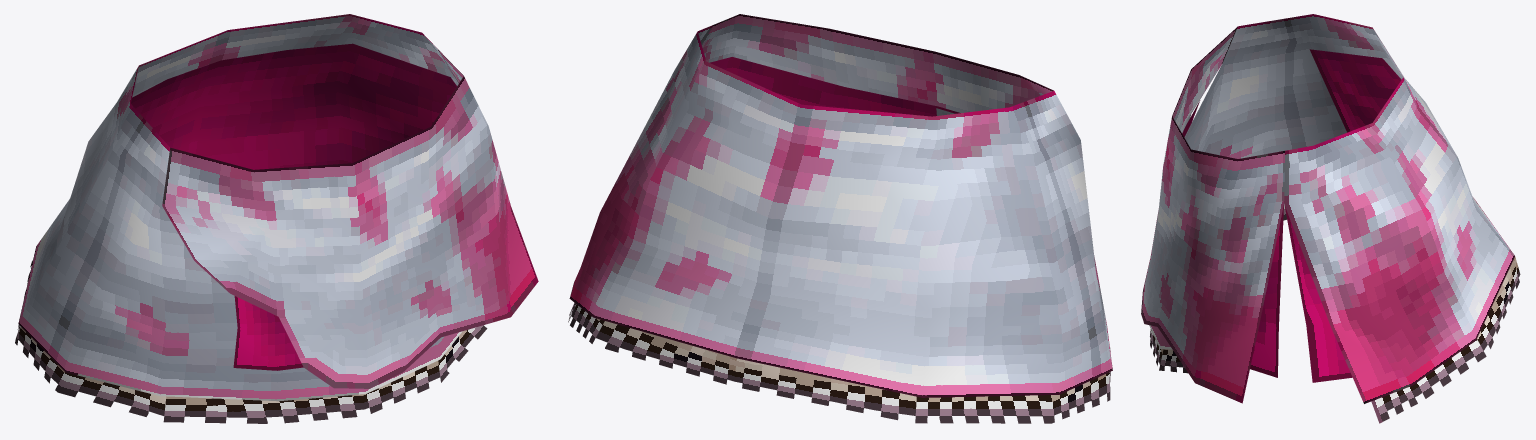
Rendered from f_wst096.glb.
3 renders of one model, left to right at view 1: azimuth 30°, elevation 25°; view 2: azimuth 150°, elevation 25°; view 3: azimuth 270°, elevation 25°, orthographic. The views are drawn at different scales.
Size of the model in its own units: 48.52 by 29.05 by 37.26.
Materials: 1 (1 with a texture image).
